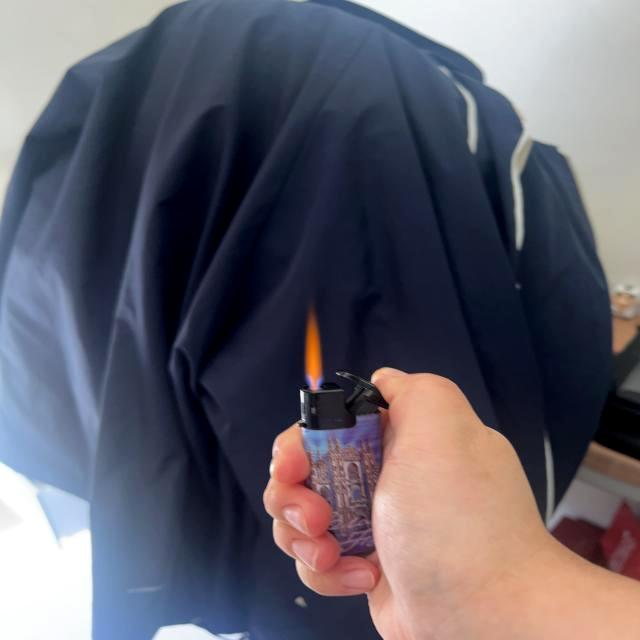fire: (298, 312, 328, 388)
